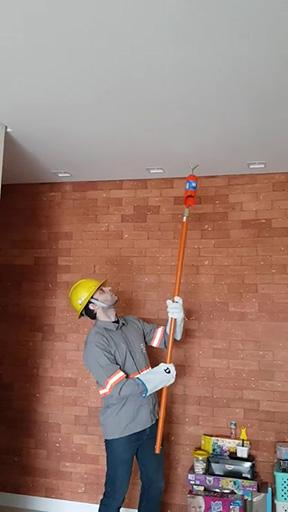Detector_Tensao_Contato: (182, 161, 201, 208)
Vara_Manobra: (154, 206, 191, 454)
